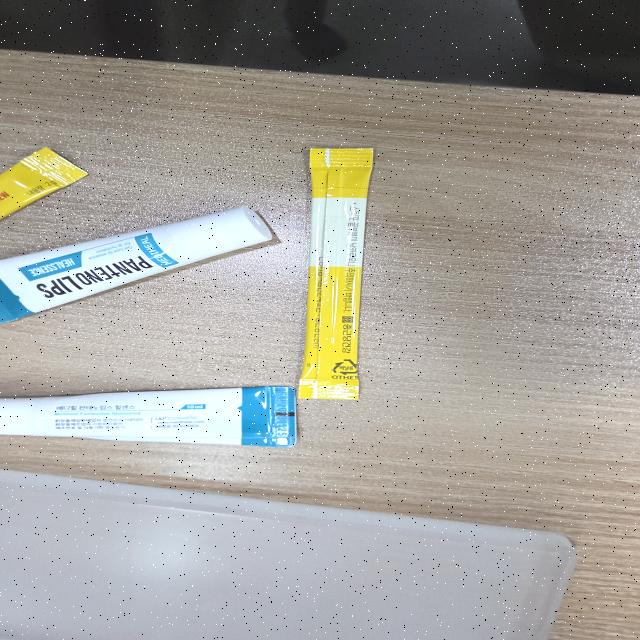lacto: (294, 143, 378, 400), (0, 146, 90, 221)
lib: (0, 206, 279, 326), (0, 387, 296, 449)
